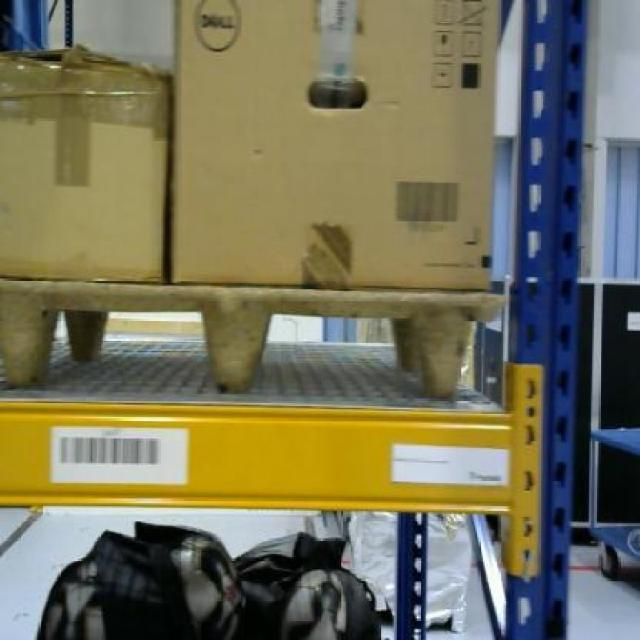box: (172, 2, 496, 290), (0, 37, 166, 280)
